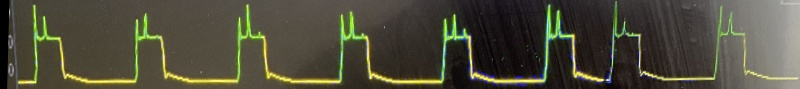hydrop_pressure: (26, 1, 800, 89)
